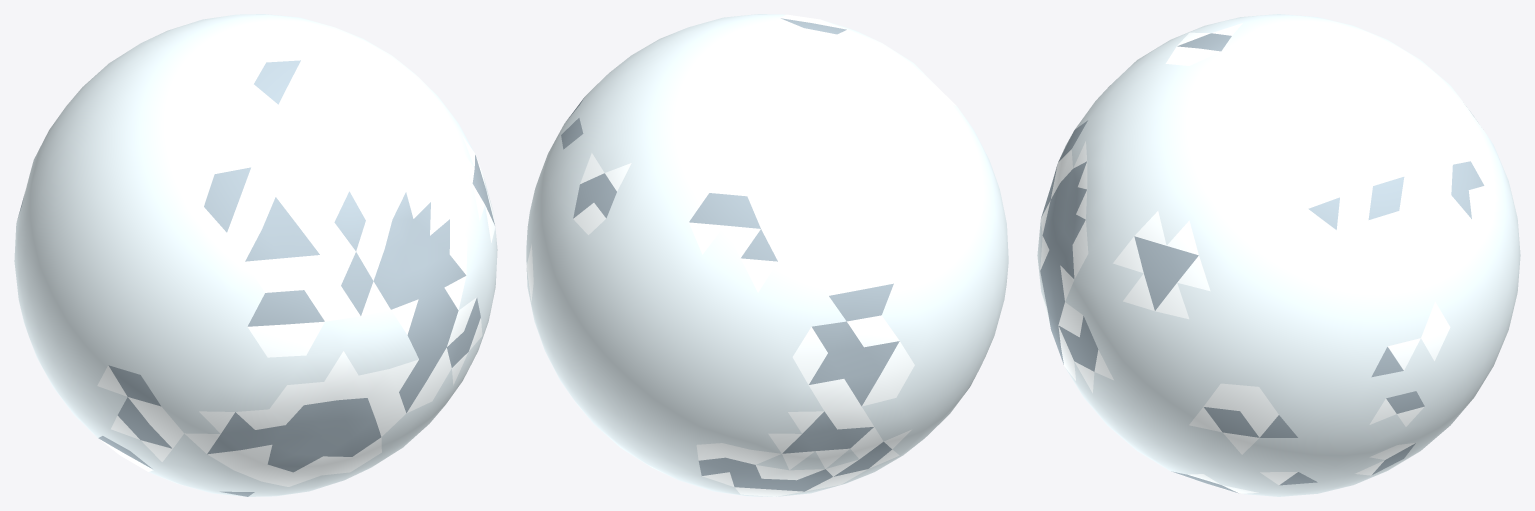
File: moon.glb
3 renders of one model, left to right at view 1: azimuth 30°, elevation 25°; view 2: azimuth 150°, elevation 25°; view 3: azimuth 270°, elevation 25°, orthographic.
Visible parts, largest first — view 1: Moon; view 2: Moon; view 3: Moon.
Part boxes in pixels (<box>): Moon: <box>14,14,497,496</box>; Moon: <box>526,14,1008,496</box>; Moon: <box>1037,14,1520,496</box>.
Bounding box in the file's own units: 12 × 12 × 12.
